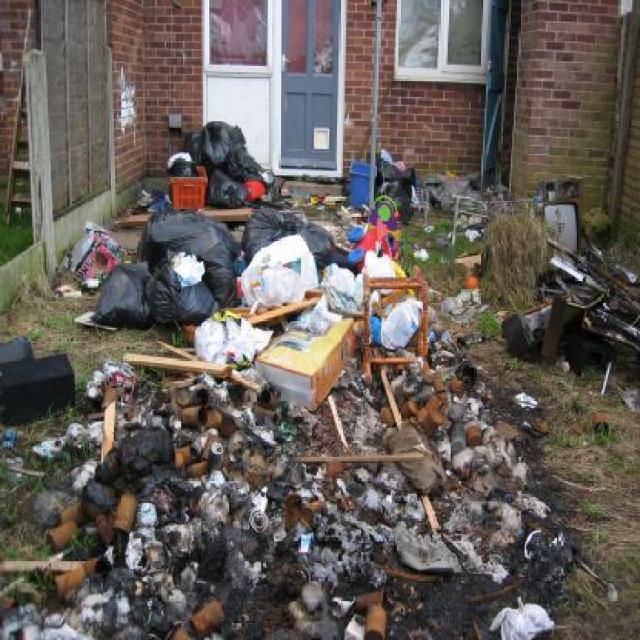garbage: (154, 166, 415, 640), (0, 339, 191, 640), (377, 314, 553, 640), (409, 163, 640, 387), (57, 218, 196, 316), (175, 121, 260, 196)
